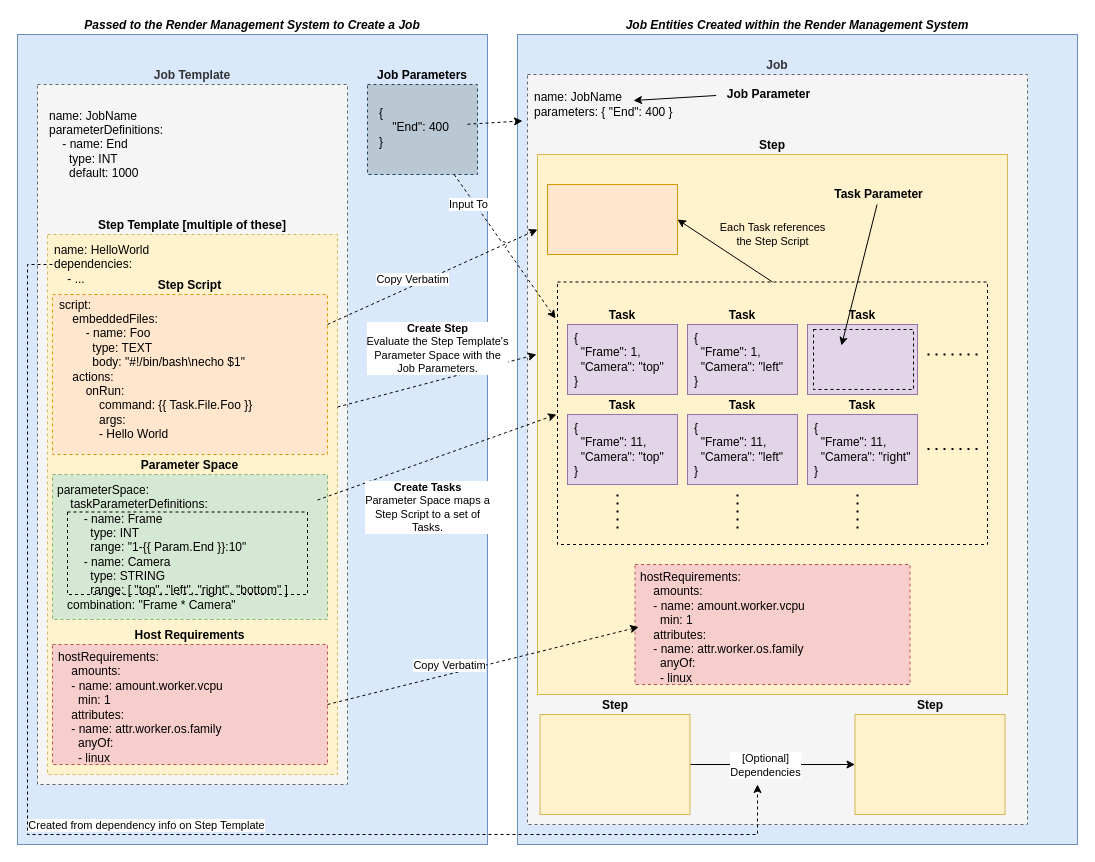
Image size: 1095x862. Some labels were removed from this diagram. The shapes that lost their labels are listed below. From the top down, each one's centre as x and y in pixels, then its label:
(612,219): Step Script - embeddedFiles - actions
(863,359): { "Frame": 1, "Camera": "right" }
